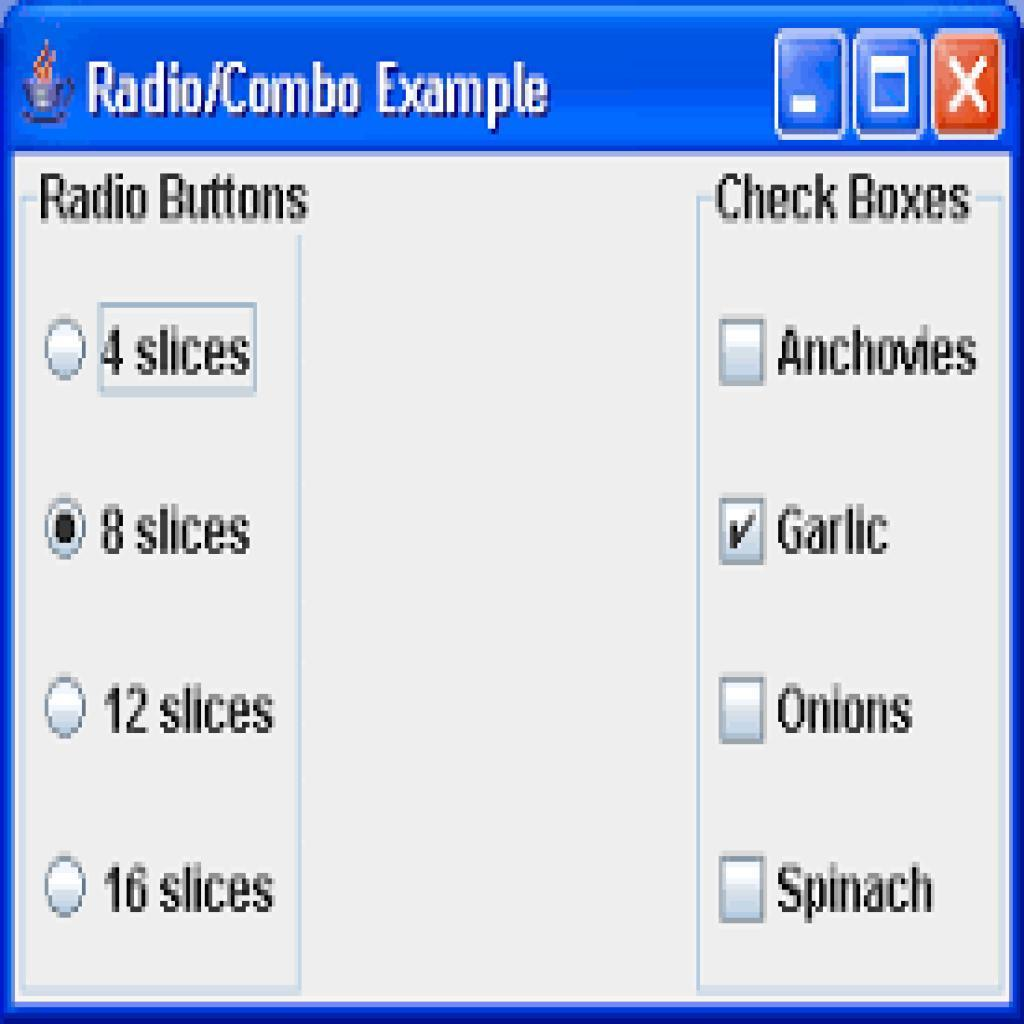checkbox: (719, 498, 769, 567), (719, 676, 769, 745), (719, 317, 767, 388), (719, 855, 768, 924)
label: (101, 674, 278, 739), (780, 325, 984, 380), (104, 857, 279, 921), (775, 858, 939, 924), (101, 495, 256, 560), (101, 321, 253, 382), (774, 685, 920, 735), (774, 504, 899, 559)
radio: (41, 308, 90, 394), (43, 845, 91, 929), (44, 668, 91, 747), (42, 493, 89, 564)
